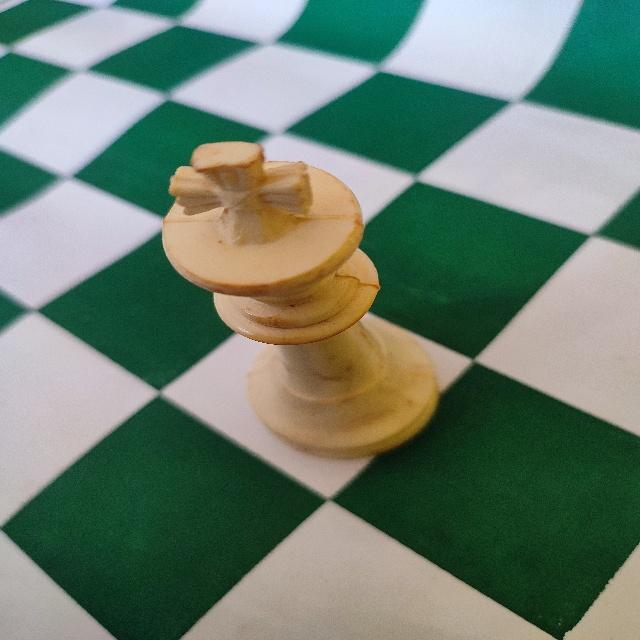King: (156, 136, 448, 466)
